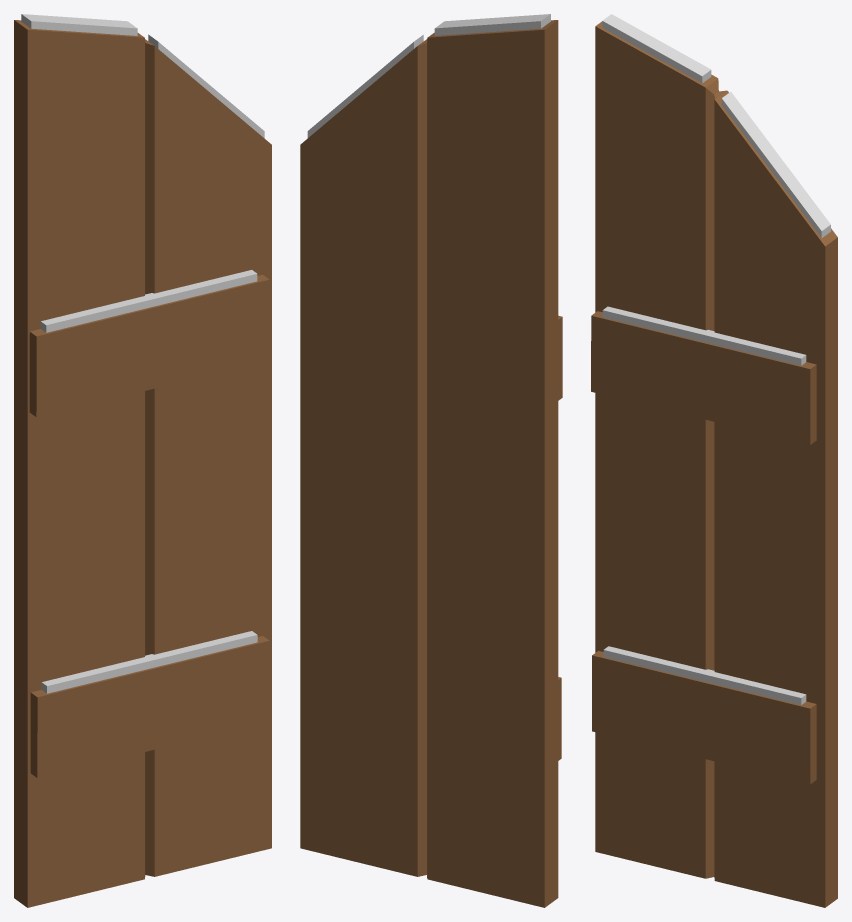
Rendered from Castle_gate_3_2_snow_mat.fbx.
The picture shows the model from 3 angles, left to right: view 1: azimuth 30°, elevation 25°; view 2: azimuth 150°, elevation 25°; view 3: azimuth 330°, elevation 25°; orthographic projection. The views are drawn at different scales.
Visible parts, largest first — view 1: Castle_gate_3_2_snow_mat; view 2: Castle_gate_3_2_snow_mat; view 3: Castle_gate_3_2_snow_mat.
Part boxes in pixels (bbox=[...]): Castle_gate_3_2_snow_mat: bbox=[14, 14, 271, 907]; Castle_gate_3_2_snow_mat: bbox=[300, 14, 562, 907]; Castle_gate_3_2_snow_mat: bbox=[591, 14, 837, 907].
Size of the model in its own units: 0.6025 by 2.08 by 0.0865.
